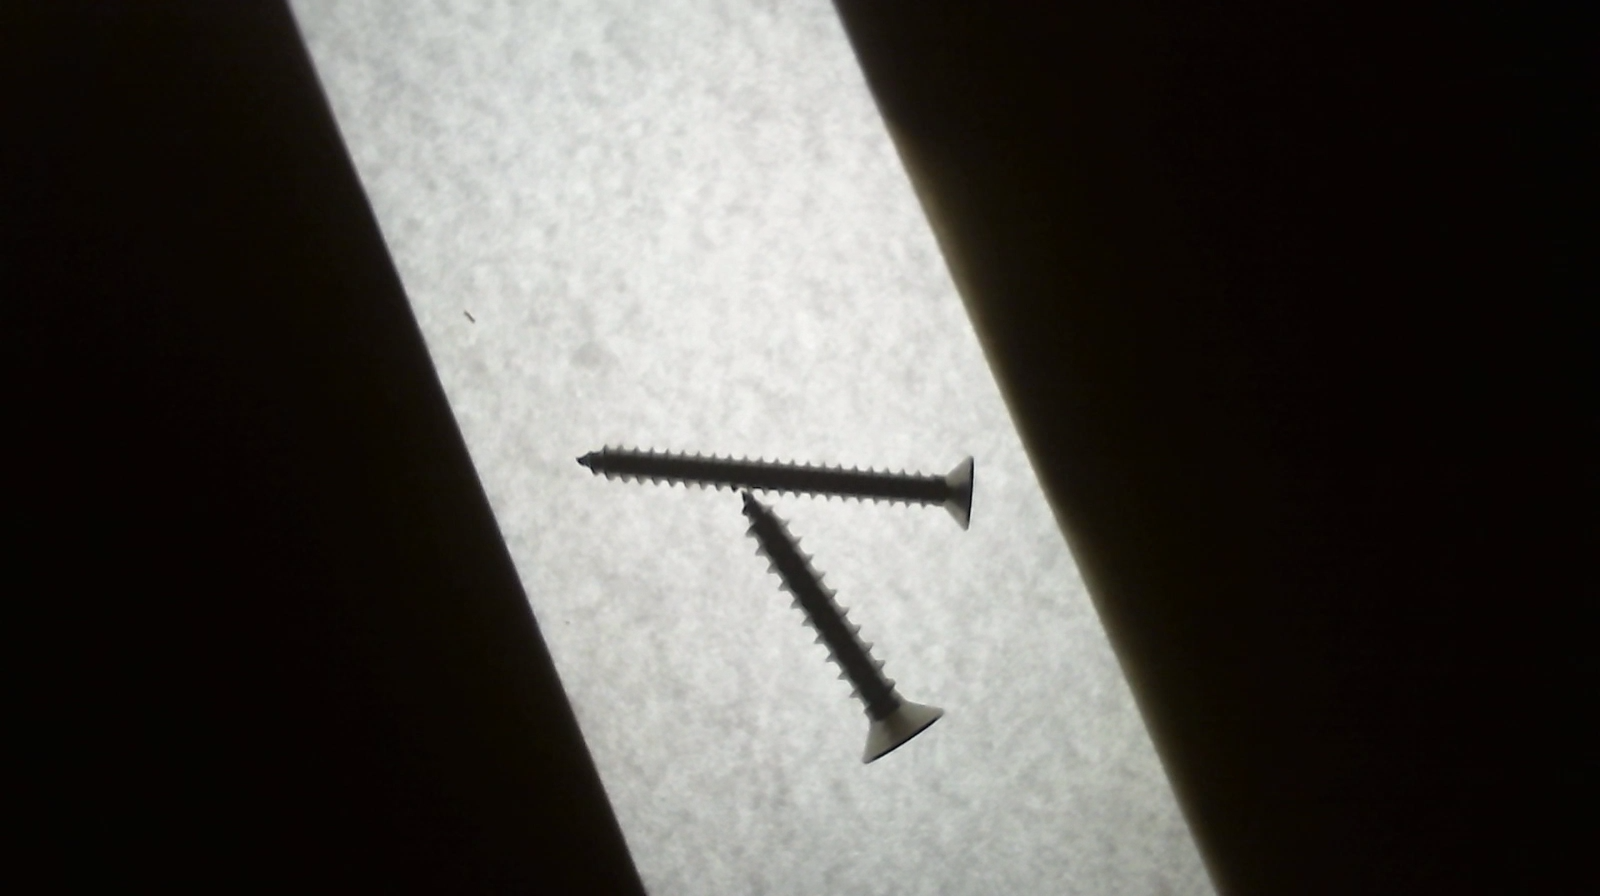S001: (736, 485, 949, 768)
S002: (571, 436, 984, 543)
